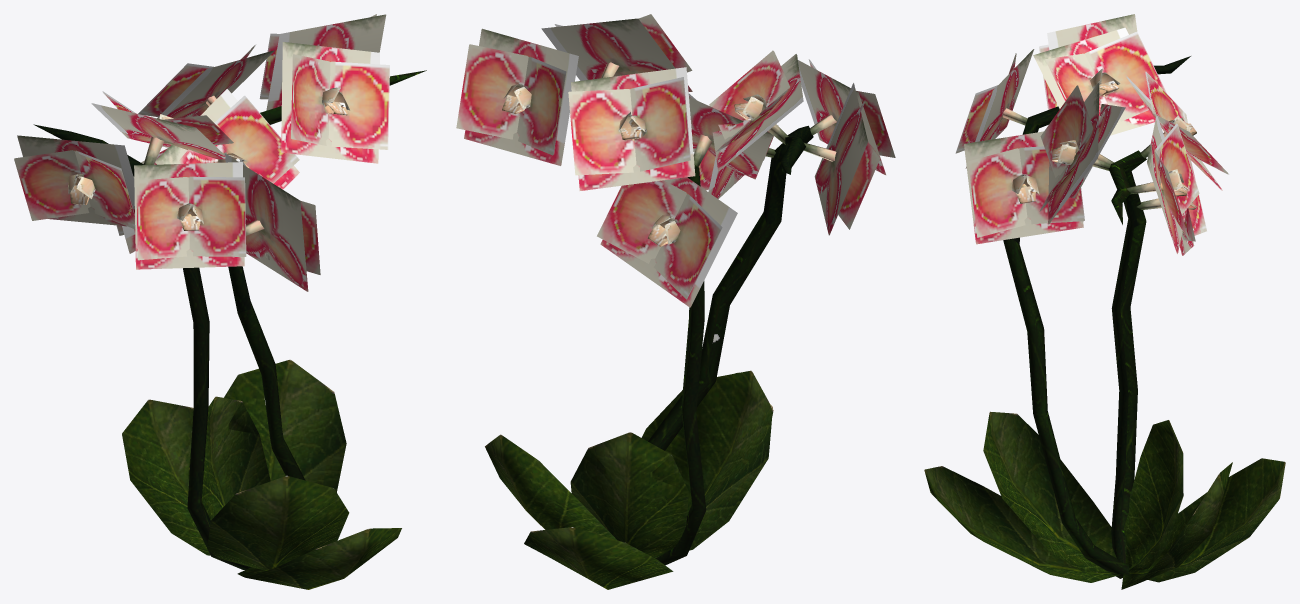
The model's file is pink_orchid.dae.
3 views of the same model, side by side, from view 1: azimuth 30°, elevation 25°; view 2: azimuth 150°, elevation 25°; view 3: azimuth 270°, elevation 25° (orthographic). The views are drawn at different scales.
Parts seen in each view (by area): view 1: orchid_mesh; view 2: orchid_mesh; view 3: orchid_mesh.
Part boxes in pixels (left/top/right/bottom): orchid_mesh: left=14, top=14, right=426, bottom=589; orchid_mesh: left=456, top=14, right=895, bottom=589; orchid_mesh: left=924, top=14, right=1285, bottom=589.
Bounding box in the file's own units: 0.8233 × 1.02 × 0.6671.
1 material, 1 textured.
